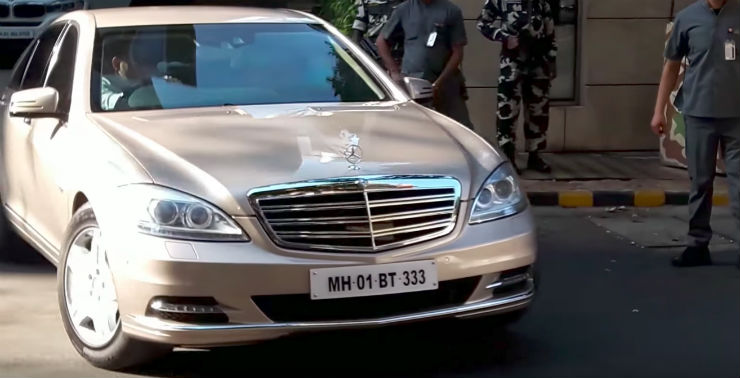number_plate: (307, 261, 444, 301)
